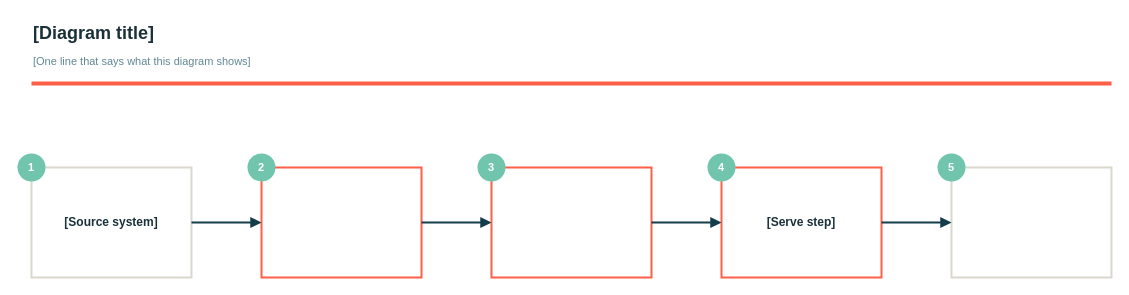
Some shapes in this 1129 by 295 pixel diagram are drawn without their labels. Here are the shapes that lost their labels. From the top down, the box of each, then its label:
(260, 166, 422, 278): [Ingest step]
(490, 166, 652, 278): [Transform step]
(950, 166, 1112, 278): [Consumer]
